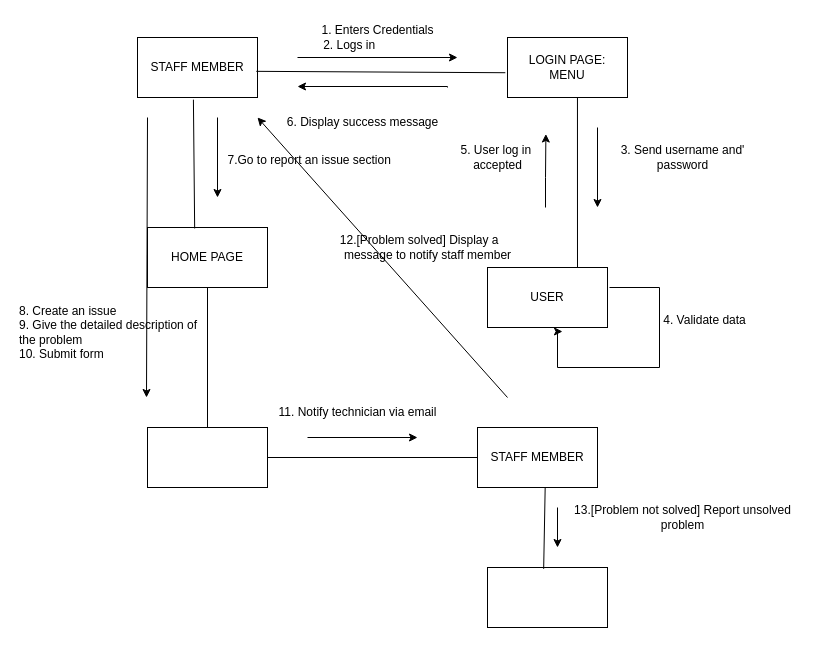
This 819x645 diagram has some shape labels left out. Each missing label, with the box of its shape:
ISSUE REPORT SECTION: MENU: (146, 426, 268, 488)
MANAGER: (486, 566, 608, 628)
